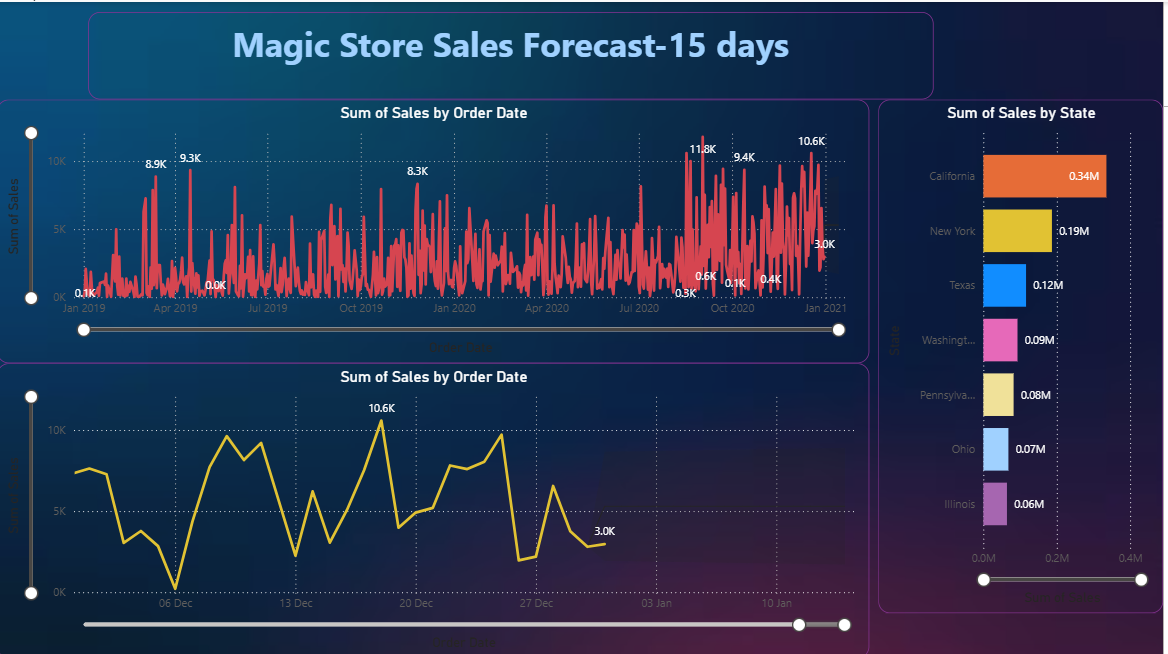

What the dashboard file says about the page in this screenshot:
{"tool":"powerbi","page":{"name":"Page 2","canvas":[1280,720],"ordinal":1},"visuals":[{"type":"lineChart","fields":{"Y":["Sum(Sheet1.Sales)"],"Category":["Sheet1.Order Date"]},"box":[0,107,957.8,289.5],"z":0},{"type":"lineChart","fields":{"Y":["Sum(Sheet1.Sales)"],"Category":["Sheet1.Order Date"]},"box":[0,396.6,957.8,323.8],"z":1000},{"type":"barChart","fields":{"Category":["Sheet1.State"],"Y":["Sum(Sheet1.Sales)"]},"box":[967.4,107,312.9,564],"z":2000},{"type":"textbox","box":[100.2,11,927.6,96.1],"z":3000}]}

Visuals, with their boxes in screenshot pixels (x1, y1, x2, y2), scaled from the page's 1280x720 canvas onto the 1168x654 screenshot:
lineChart - Sum(Sheet1.Sales) x Sheet1.Order Date: box(0, 97, 874, 360)
lineChart - Sum(Sheet1.Sales) x Sheet1.Order Date: box(0, 360, 874, 653)
barChart - Sheet1.State x Sum(Sheet1.Sales): box(883, 97, 1167, 609)
textbox: box(91, 10, 938, 97)
